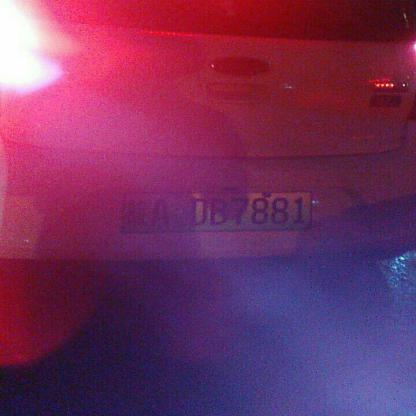lp: (122, 192, 312, 232)
